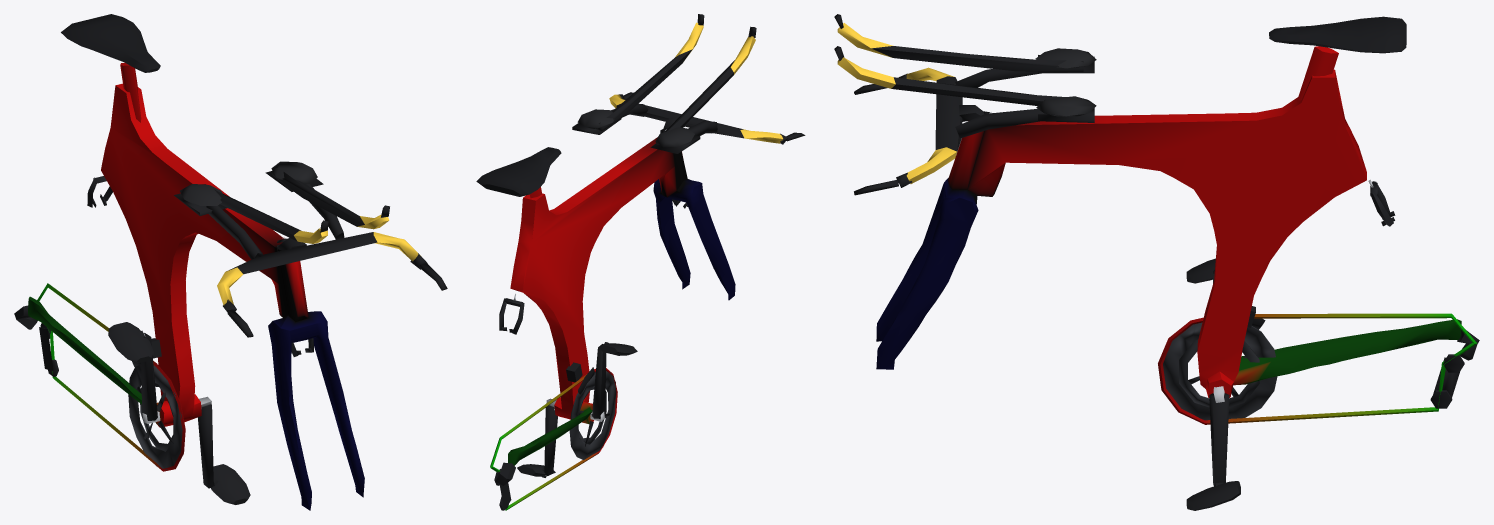
The model's file is lotus_lod1.glb.
3 renders of one model, left to right at view 1: azimuth 30°, elevation 25°; view 2: azimuth 150°, elevation 25°; view 3: azimuth 270°, elevation 25°, orthographic. The views are drawn at different scales.
Visible parts, largest first — view 1: frame, cockpit, crankset, saddle, pedal_R, pedal_L, opt_derailleur, opt_brakes_rim; view 2: frame, cockpit, crankset, saddle, opt_derailleur, opt_brakes_rim, pedal_R; view 3: frame, cockpit, crankset, saddle, opt_derailleur, pedal_L.
Boxes of the visible parts, x1,y1,x2,y2 form: frame: (28, 62, 364, 510); cockpit: (174, 161, 447, 337); crankset: (128, 333, 213, 488); saddle: (61, 14, 160, 72); pedal_R: (108, 322, 153, 362); pedal_L: (211, 464, 250, 504); opt_derailleur: (14, 305, 161, 376); opt_brakes_rim: (87, 176, 313, 356); frame: (490, 137, 735, 510); cockpit: (572, 14, 805, 153); crankset: (544, 344, 616, 475); saddle: (476, 147, 561, 196); opt_derailleur: (494, 362, 594, 510); opt_brakes_rim: (499, 199, 687, 334); pedal_R: (599, 342, 637, 355); frame: (876, 46, 1477, 424); cockpit: (834, 14, 1096, 195); crankset: (1163, 276, 1277, 485); saddle: (1269, 16, 1406, 53); opt_derailleur: (1247, 306, 1479, 408); pedal_L: (1186, 481, 1240, 510).
Bounding box in the file's own units: 0.4408 × 0.885 × 1.14.
